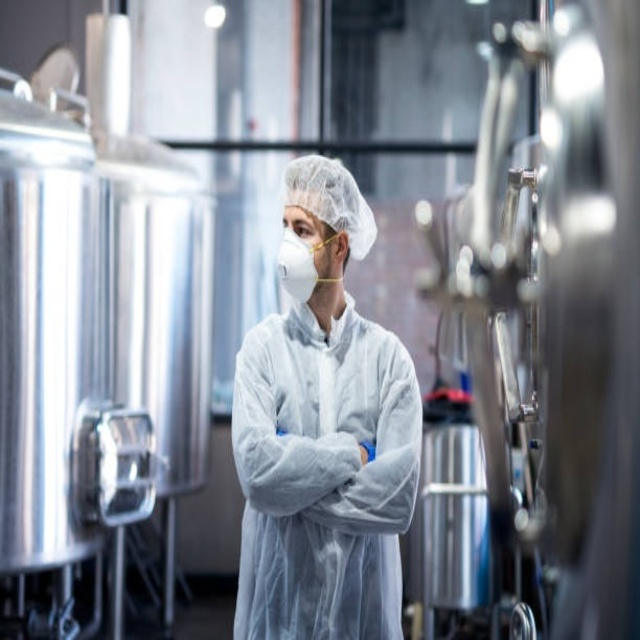Mascara: (277, 229, 322, 304)
Sin_gafas: (281, 213, 316, 242)
